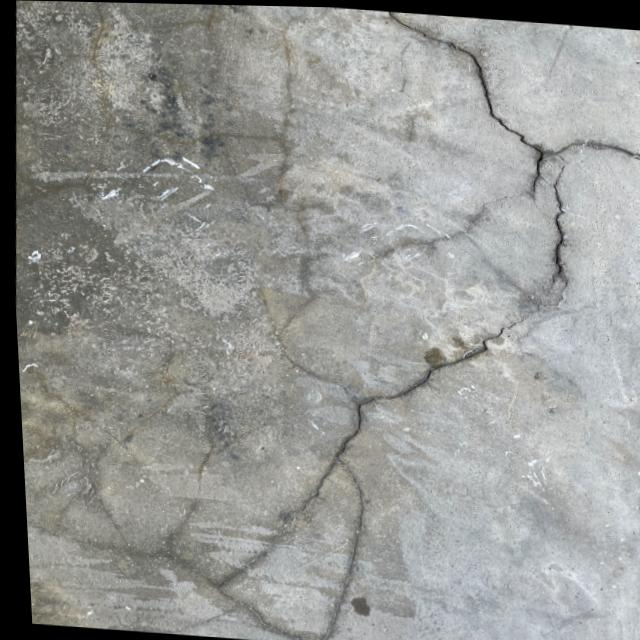Crack: (343, 7, 640, 356), (187, 363, 487, 640)
